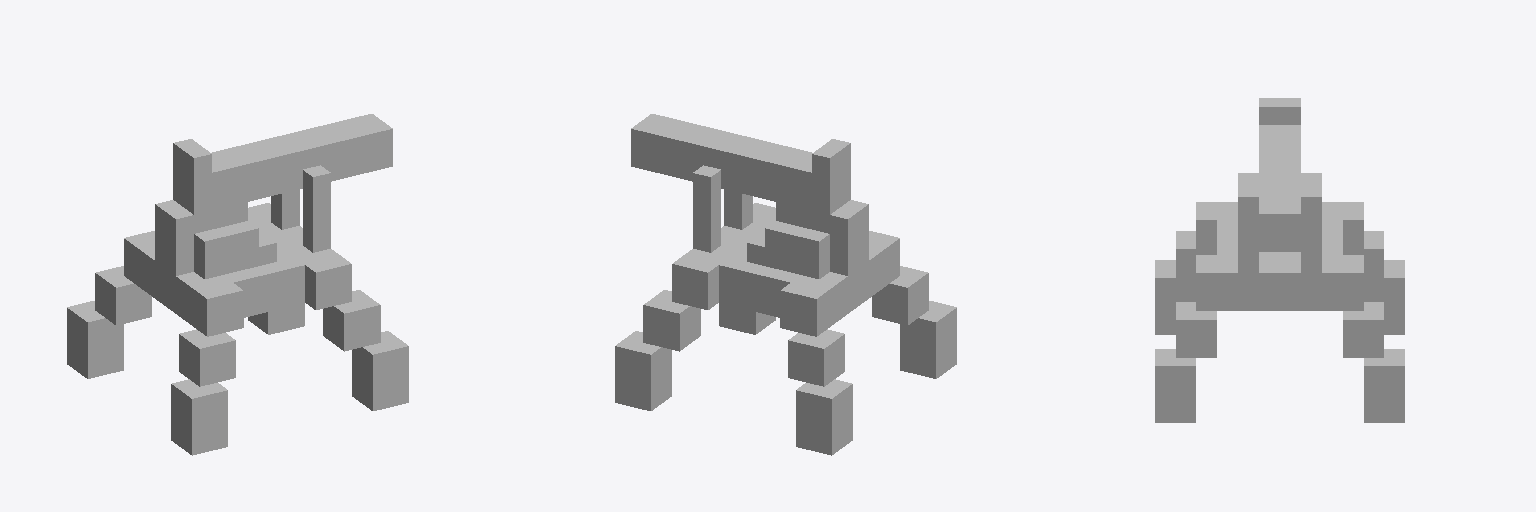
The model's file is voxelsniper1.obj.
The picture shows the model from 3 angles: view 1: azimuth 30°, elevation 25°; view 2: azimuth 150°, elevation 25°; view 3: azimuth 270°, elevation 25°; orthographic projection.
Parts seen in each view (by area): view 1: voxelsniper1; view 2: voxelsniper1; view 3: voxelsniper1.
Part boxes in pixels (left/top/right/bottom): voxelsniper1: left=67, top=114, right=408, bottom=455; voxelsniper1: left=615, top=114, right=956, bottom=455; voxelsniper1: left=1155, top=98, right=1404, bottom=422.
Bounding box in the file's own units: 14 × 13 × 12.